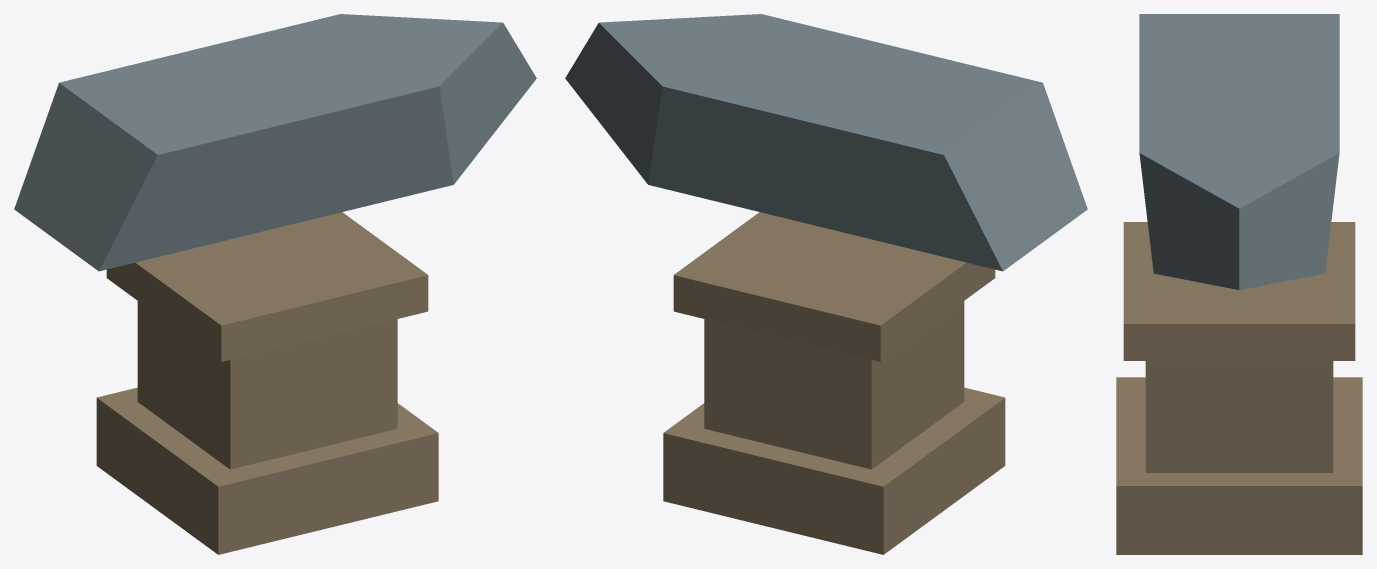
File: map-exclusive-v3__iron_05.glb
The picture shows the model from 3 angles, left to right: view 1: azimuth 30°, elevation 25°; view 2: azimuth 150°, elevation 25°; view 3: azimuth 270°, elevation 25°; orthographic projection.
Parts seen in each view (by area): view 1: iron_05; view 2: iron_05; view 3: iron_05.
Part boxes in pixels (<box>): iron_05: <box>14,14,536,554</box>; iron_05: <box>565,14,1087,554</box>; iron_05: <box>1116,14,1362,554</box>.
Size of the model in its own units: 1.57 by 1.26 by 0.69.
